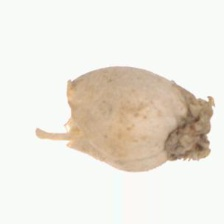L1: (172, 81, 214, 162), (63, 78, 81, 151)
L2: (64, 65, 213, 174)
